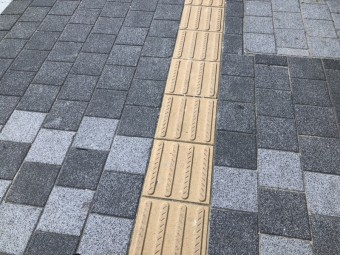guideBlock: (132, 193, 213, 255), (154, 139, 217, 191), (154, 97, 220, 145), (159, 61, 220, 101), (172, 27, 227, 63), (185, 9, 225, 30)
